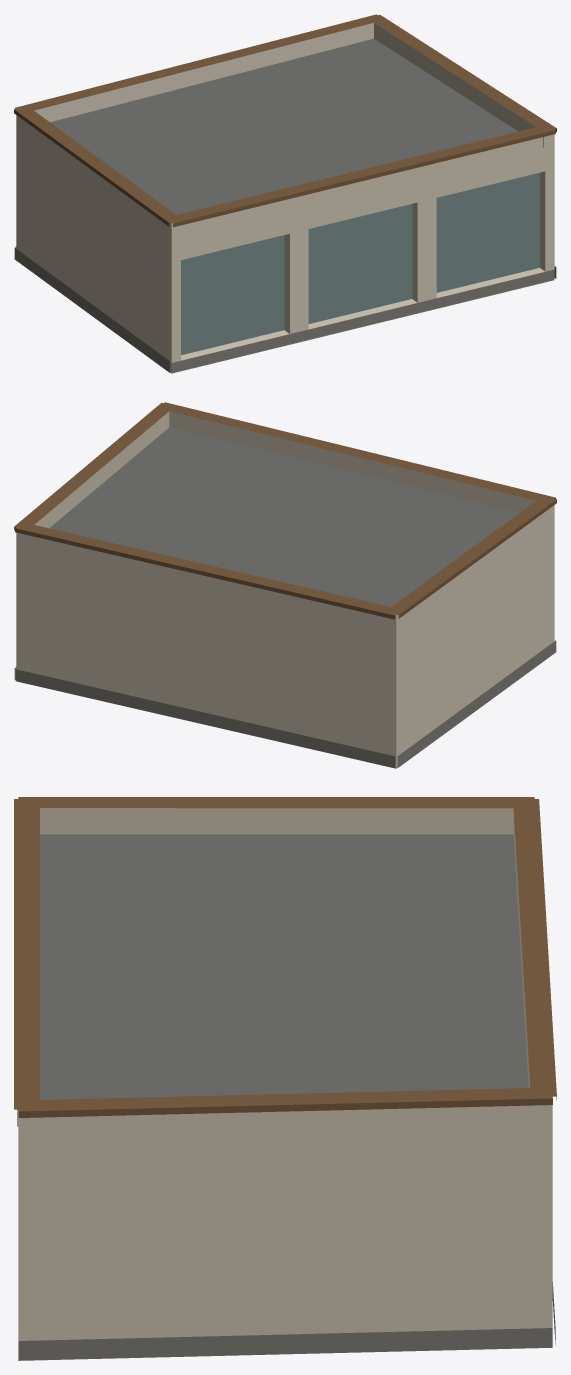
3 renders of one model, top to bottom at view 1: azimuth 30°, elevation 25°; view 2: azimuth 150°, elevation 25°; view 3: azimuth 270°, elevation 25°, orthographic. The views are drawn at different scales.
Parts seen in each view (by area): view 1: cafeSerio1__roof, cafeSerio1__wall, cafeSerio1__glass, cafeSerio1__parapet, cafeSerio1__trim, cafeSerio1__base; view 2: cafeSerio1__wall, cafeSerio1__roof, cafeSerio1__parapet, cafeSerio1__trim, cafeSerio1__base; view 3: cafeSerio1__roof, cafeSerio1__wall, cafeSerio1__trim, cafeSerio1__parapet, cafeSerio1__base.
Part boxes in pixels (x1,y1,x2,y2): cafeSerio1__roof: (50,38,554,373); cafeSerio1__wall: (16,125,554,372); cafeSerio1__glass: (181,172,539,355); cafeSerio1__parapet: (16,23,554,238); cafeSerio1__trim: (14,14,556,227); cafeSerio1__base: (14,246,556,372); cafeSerio1__wall: (16,515,554,767); cafeSerio1__roof: (49,427,519,768); cafeSerio1__parapet: (16,411,554,630); cafeSerio1__trim: (14,402,556,619); cafeSerio1__base: (14,640,556,768); cafeSerio1__roof: (18,834,551,1360); cafeSerio1__wall: (18,1123,552,1359); cafeSerio1__trim: (14,797,556,1117); cafeSerio1__parapet: (17,808,552,1135); cafeSerio1__base: (18,1282,555,1360).
Bounding box in the file's own units: 10.25 × 3.82 × 7.48.
